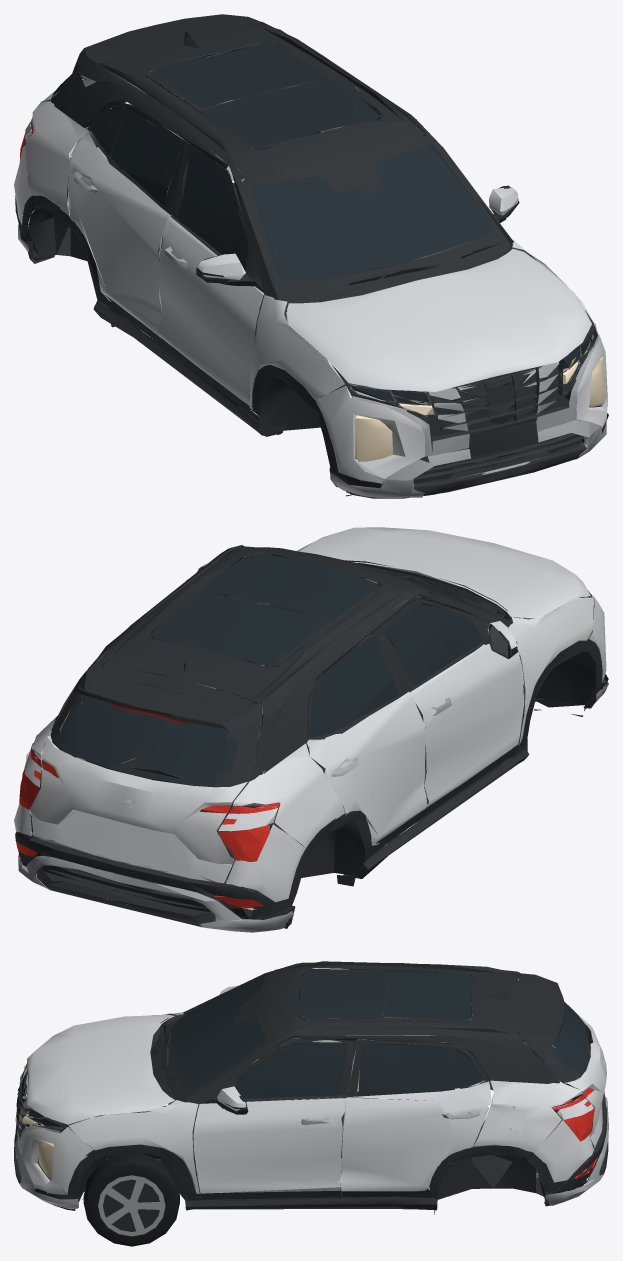
File: suv-compact.glb
3 renders of one model, top to bottom at view 1: azimuth 30°, elevation 25°; view 2: azimuth 150°, elevation 25°; view 3: azimuth 270°, elevation 25°, orthographic. The views are drawn at different scales.
Parts seen in each view (by area): view 1: Car body, Car trim, Car glazing, Car wheel discs, Car headlamps; view 2: Car body, Car trim, Car glazing, Car wheel discs, Car tail lamps; view 3: Car body, Car trim, Car glazing, Wheel tyre, Car wheel discs, Wheel rim, Wheel well, Car tail lamps, Car headlamps.
Part boxes in pixels (x1=…): Car body: x1=14, y1=50, x2=607, y2=483; Car trim: x1=15, y1=14, x2=608, y2=498; Car glazing: x1=77, y1=42, x2=593, y2=421; Car wheel discs: x1=18, y1=77, x2=606, y2=497; Car headlamps: x1=355, y1=350, x2=605, y2=461; Car body: x1=14, y1=527, x2=606, y2=902; Car trim: x1=15, y1=545, x2=608, y2=928; Car glazing: x1=60, y1=551, x2=591, y2=869; Car wheel discs: x1=18, y1=591, x2=608, y2=932; Car tail lamps: x1=16, y1=703, x2=280, y2=908; Car body: x1=21, y1=968, x2=606, y2=1195; Car trim: x1=14, y1=961, x2=608, y2=1214; Car glazing: x1=28, y1=969, x2=590, y2=1200; Wheel tyre: x1=83, y1=1154, x2=179, y2=1246; Car wheel discs: x1=14, y1=1058, x2=608, y2=1209; Wheel rim: x1=98, y1=1175, x2=165, y2=1236; Wheel well: x1=101, y1=1175, x2=159, y2=1231; Car tail lamps: x1=552, y1=1038, x2=597, y2=1178; Car headlamps: x1=22, y1=1062, x2=53, y2=1179.
Size of the model in its own units: 2.05 by 1.66 by 4.3.
